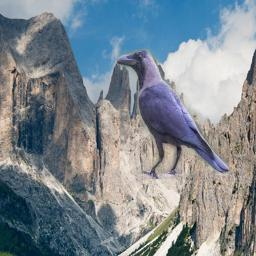Crow: (117, 49, 229, 179)
